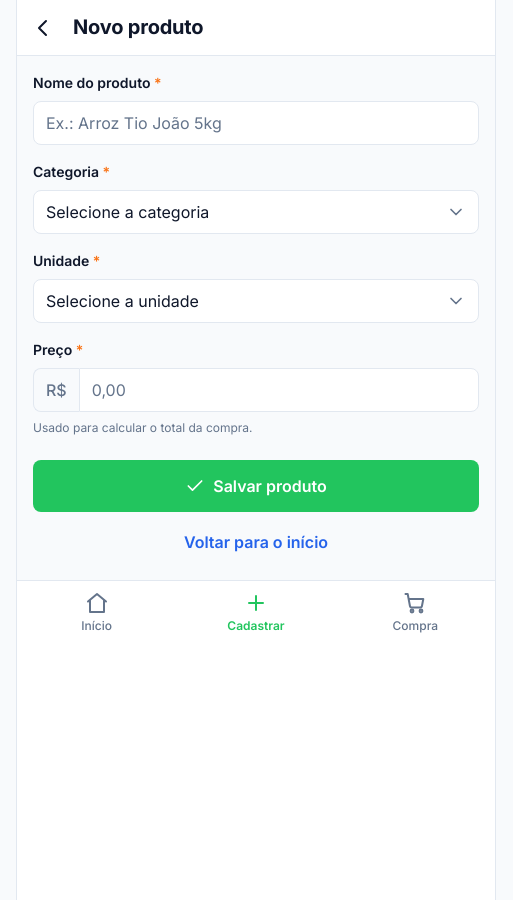
Scenario: App › mostra erros de validacao ao salvar o Cadastro vazio
Click the button "Salvar produto". click: point(256, 486)
box: top-left (33, 460), bottom-right (479, 512)
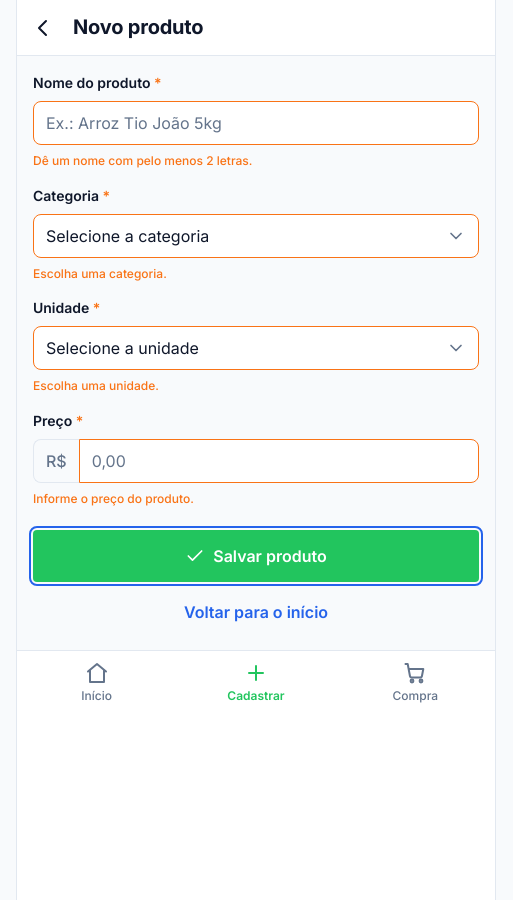
Expected: the text "Dê um nome com pelo menos 2 letras." is shown, top-left (33, 153), bottom-right (252, 168)
Expected: the text "Escolha uma categoria." is shown, top-left (33, 266), bottom-right (167, 281)
Expected: the text "Escolha uma unidade." is shown, top-left (33, 378), bottom-right (159, 393)
